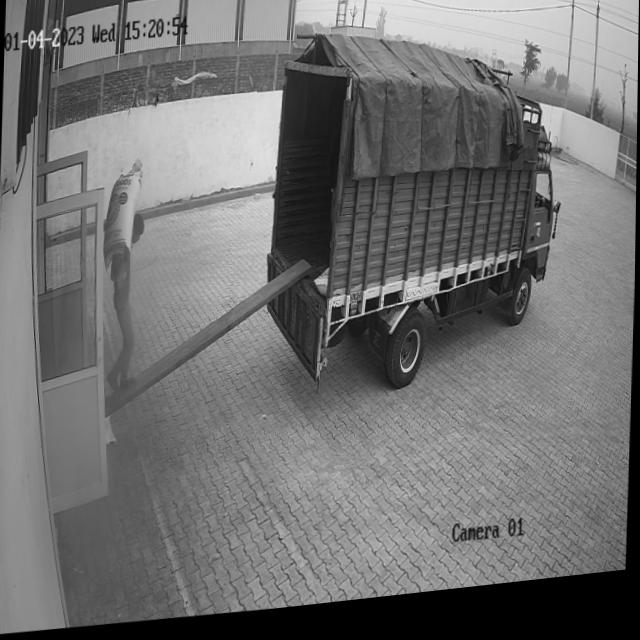sack: (103, 162, 142, 273)
